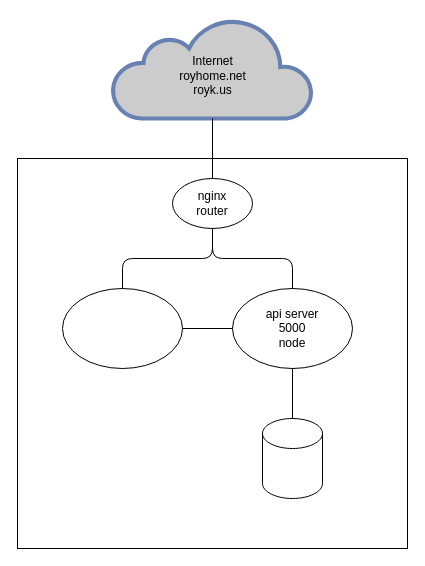
Some shapes in this 425 by 566 pixel diagram are drawn without their labels. The shapes that lost their labels are listed below. From the top down, each one's centre as x and y in pixels, then its label:
At (122,328): "web server 3000 react".
At (292,458): "royhome postgres".
